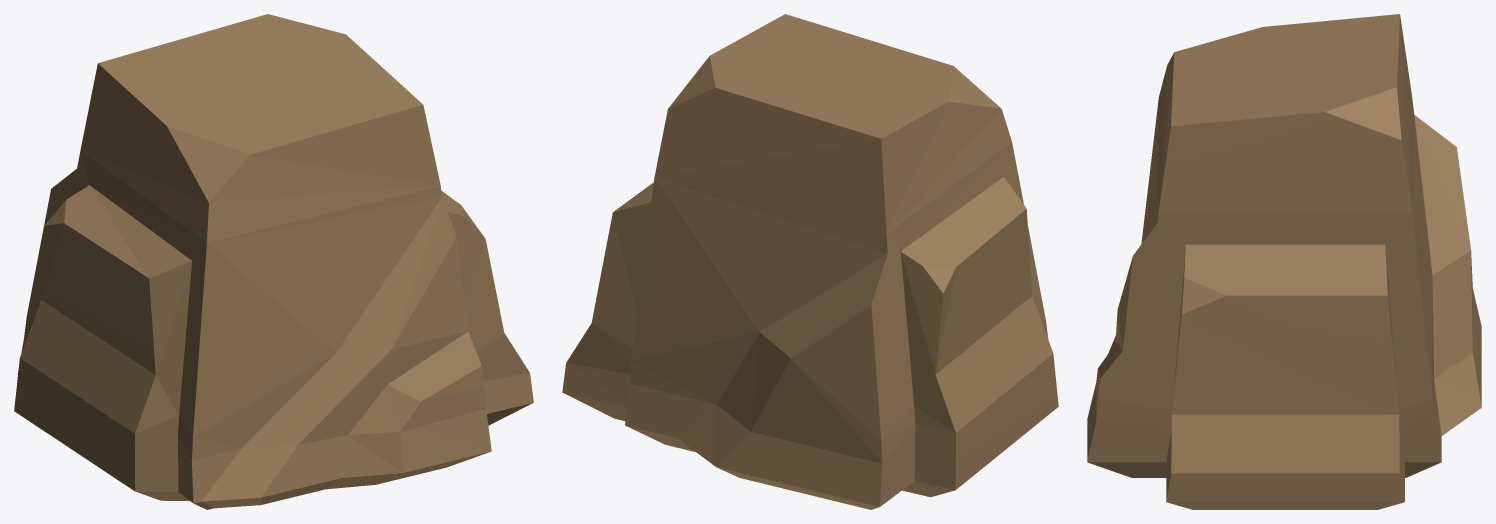
The model's file is SM_Env_Rock_09.gltf.
3 views of the same model, side by side, from view 1: azimuth 30°, elevation 25°; view 2: azimuth 150°, elevation 25°; view 3: azimuth 270°, elevation 25° (orthographic).
Parts seen in each view (by area): view 1: SM_Env_Rock_09; view 2: SM_Env_Rock_09; view 3: SM_Env_Rock_09.
Part boxes in pixels (bbox=[...]): SM_Env_Rock_09: bbox=[14, 14, 533, 509]; SM_Env_Rock_09: bbox=[562, 14, 1058, 509]; SM_Env_Rock_09: bbox=[1087, 14, 1481, 509].
Size of the model in its own units: 0.7787 by 0.6868 by 0.6668.
1 material, 1 textured.
